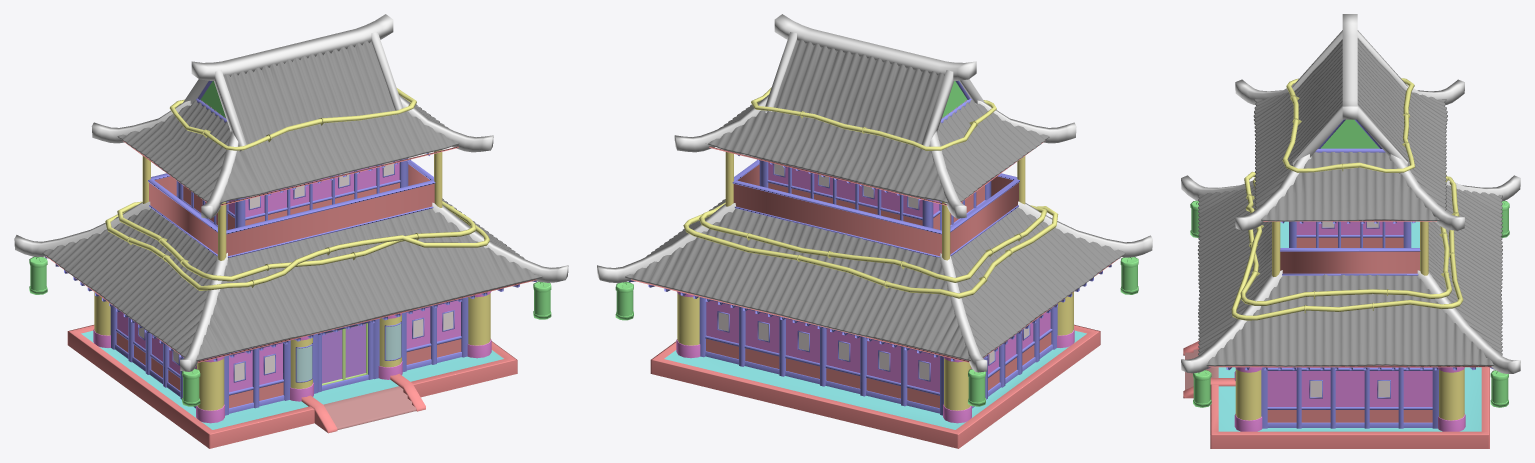
Rendered from SM_ENV_LKNVLD_Building_C.gltf.
The picture shows the model from 3 angles, left to right: view 1: azimuth 30°, elevation 25°; view 2: azimuth 150°, elevation 25°; view 3: azimuth 270°, elevation 25°; orthographic projection.
Parts seen in each view (by area): view 1: SM_ENV_LKNVLD_Building_C; view 2: SM_ENV_LKNVLD_Building_C; view 3: SM_ENV_LKNVLD_Building_C.
Part boxes in pixels (<box>): SM_ENV_LKNVLD_Building_C: <box>14,14,568,448</box>; SM_ENV_LKNVLD_Building_C: <box>597,14,1152,448</box>; SM_ENV_LKNVLD_Building_C: <box>1181,14,1520,448</box>.
Size of the model in its own units: 26.35 by 20.58 by 20.18.
